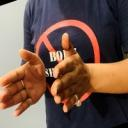hand: (49, 32, 94, 113), (0, 47, 46, 116)
